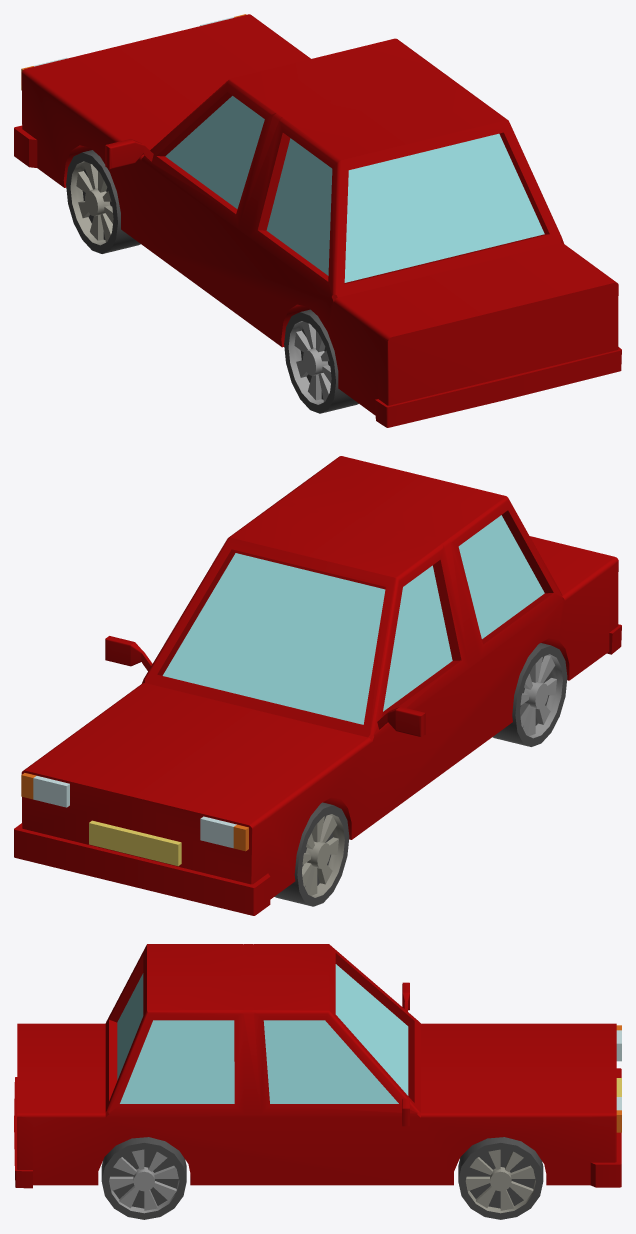
Rendered from CocheV2_rojo.fbx.
3 renders of one model, top to bottom at view 1: azimuth 30°, elevation 25°; view 2: azimuth 150°, elevation 25°; view 3: azimuth 270°, elevation 25°, orthographic. The views are drawn at different scales.
Visible parts, largest first — view 1: Cube, Cylinder, Cylinder.002, Cube.002; view 2: Cube, Cylinder.002, Cylinder, Cube.001, Cube.003, Cube.002; view 3: Cube, Cylinder.002, Cylinder, Cube.002, Cube.001.
Boxes of the visible parts, bbox=[...] form: Cube: bbox=[14, 14, 621, 427]; Cylinder: bbox=[66, 150, 140, 253]; Cylinder.002: bbox=[284, 309, 358, 413]; Cube.002: bbox=[105, 139, 153, 169]; Cube: bbox=[14, 456, 621, 915]; Cylinder.002: bbox=[492, 643, 567, 746]; Cylinder: bbox=[274, 802, 349, 906]; Cube.001: bbox=[21, 773, 248, 851]; Cube.003: bbox=[89, 820, 181, 866]; Cube.002: bbox=[105, 636, 425, 737]; Cube: bbox=[14, 944, 621, 1188]; Cylinder.002: bbox=[101, 1137, 186, 1219]; Cylinder: bbox=[458, 1137, 543, 1219]; Cube.002: bbox=[402, 982, 409, 1126]; Cube.001: bbox=[616, 1025, 621, 1132].
Size of the model in its own units: 274 by 199 by 558.
